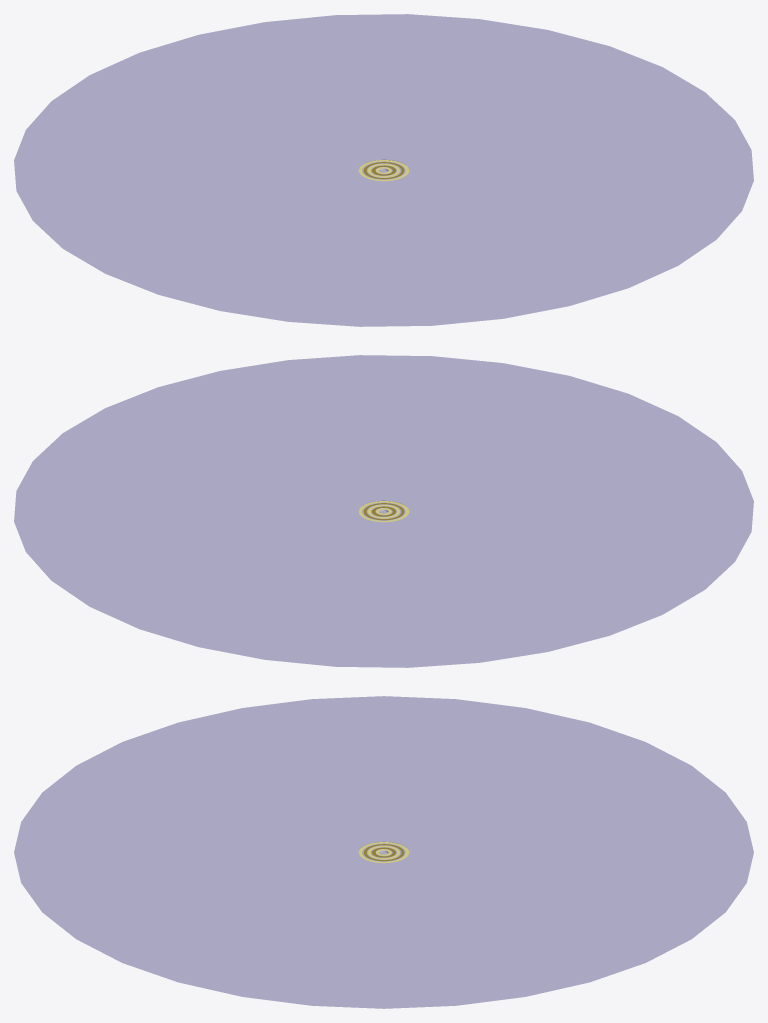
File: Ground.fbx
The picture shows the model from 3 angles, top to bottom: view 1: azimuth 30°, elevation 25°; view 2: azimuth 150°, elevation 25°; view 3: azimuth 270°, elevation 25°; orthographic projection.
Parts seen in each view (by area): view 1: Ground; view 2: Ground; view 3: Ground.
Part boxes in pixels (x1,y1,x2,y2): Ground: (14, 14, 753, 326); Ground: (14, 355, 753, 667); Ground: (14, 696, 753, 1008).
Bounding box in the file's own units: 578 × 0.776 × 578.
